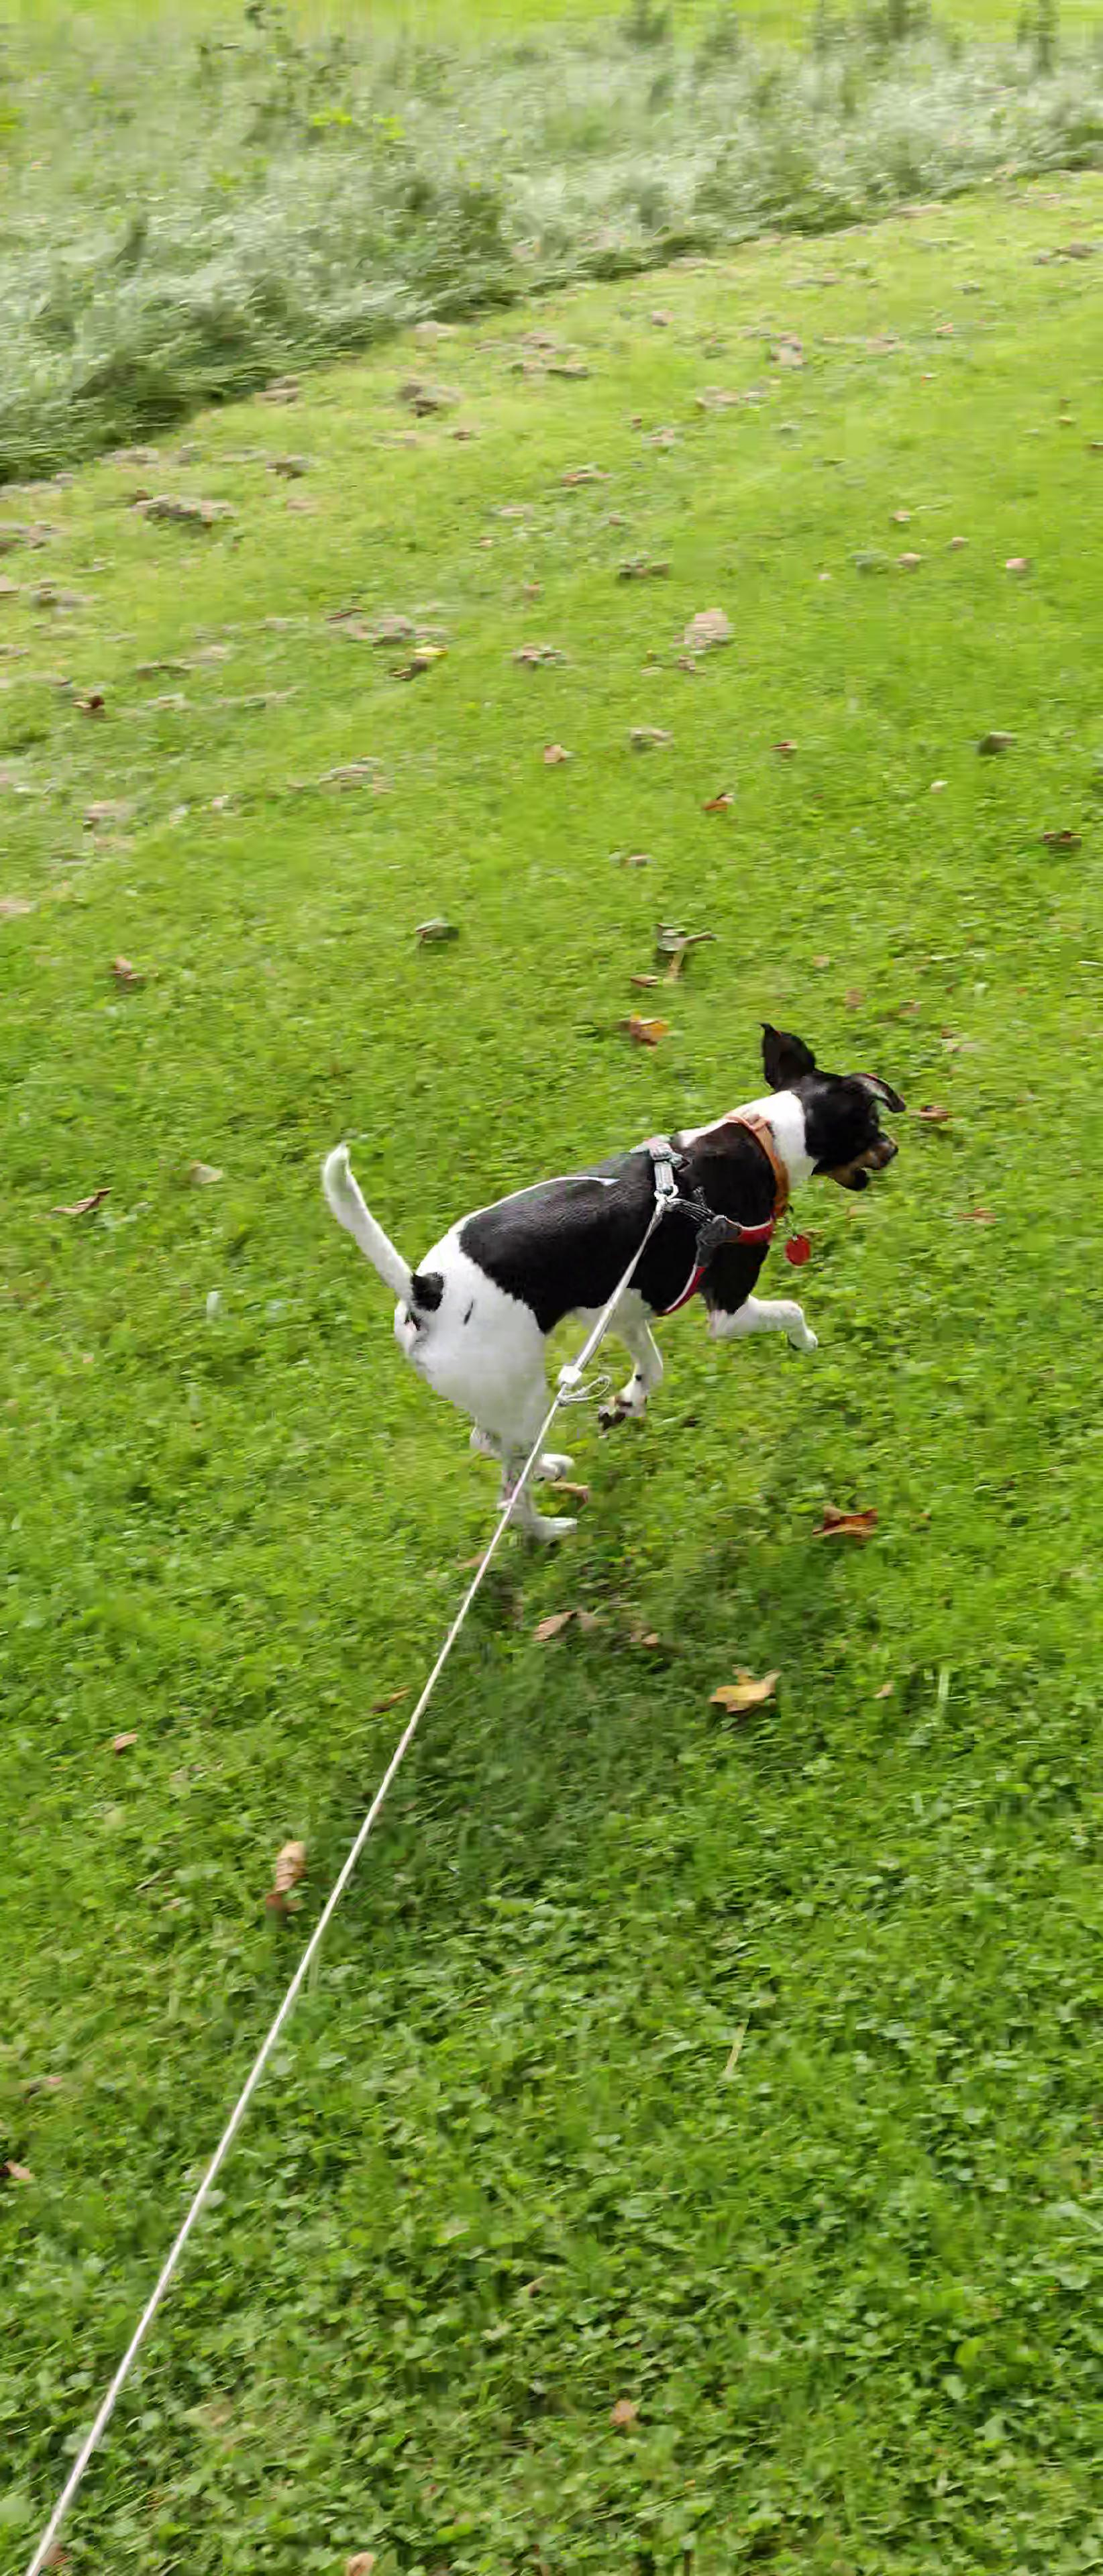Dog: (293, 1015, 919, 1551)
